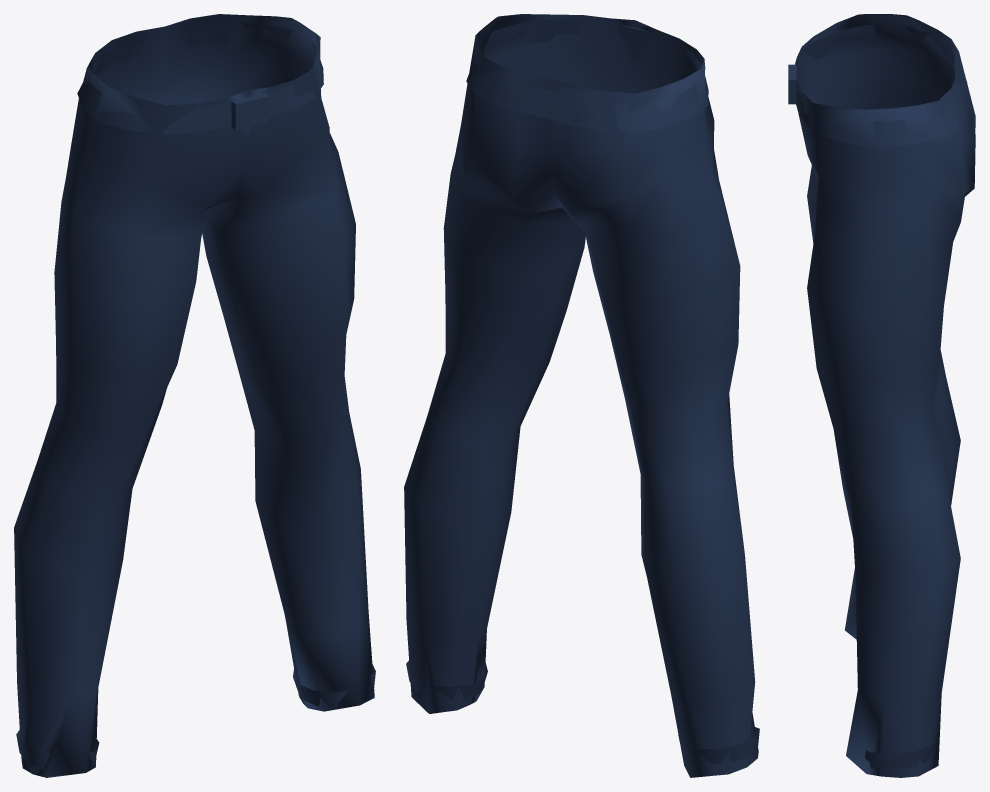
The model's file is jeans.glb.
3 views of the same model, side by side, from view 1: azimuth 30°, elevation 25°; view 2: azimuth 150°, elevation 25°; view 3: azimuth 270°, elevation 25° (orthographic). The views are drawn at different scales.
Parts seen in each view (by area): view 1: jeans; view 2: jeans; view 3: jeans.
Boxes of the visible parts, x1=… form: jeans: x1=14, y1=14, x2=375, y2=777; jeans: x1=404, y1=14, x2=759, y2=777; jeans: x1=788, y1=14, x2=975, y2=777.
Bounding box in the file's own units: 0.5149 × 0.977 × 0.2578.
